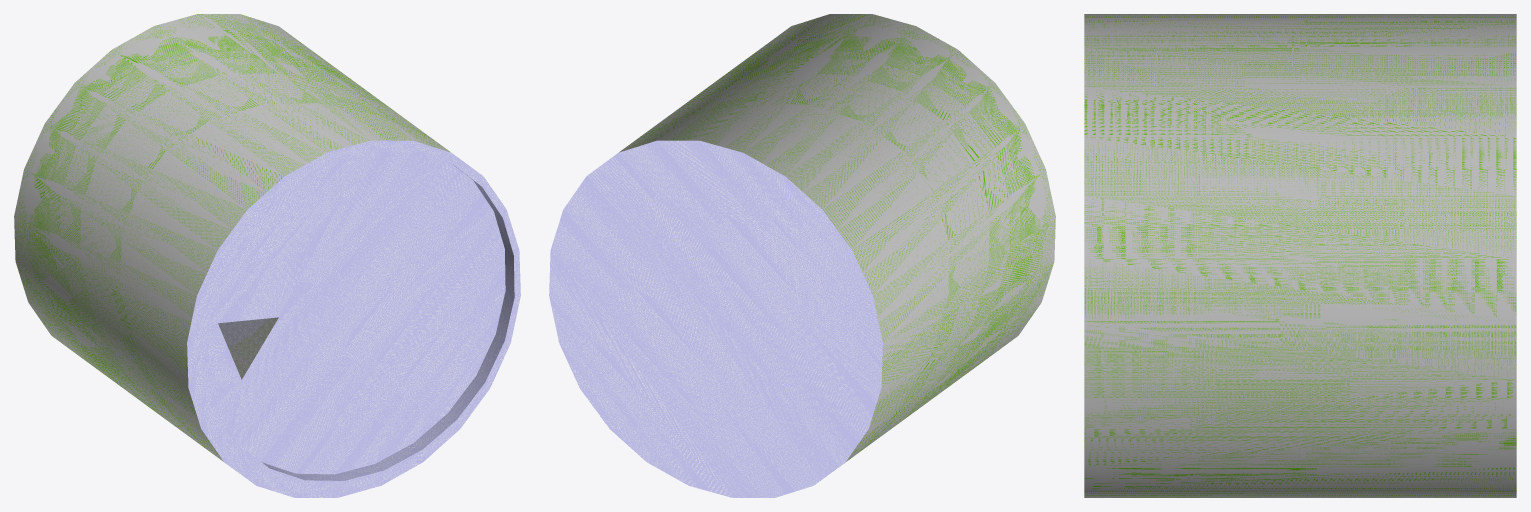
File: model_scale.obj
3 views of the same model, side by side, from view 1: azimuth 30°, elevation 25°; view 2: azimuth 150°, elevation 25°; view 3: azimuth 270°, elevation 25° (orthographic). The views are drawn at different scales.
Parts seen in each view (by area): view 1: mesh1_mesh1-geometry; view 2: mesh1_mesh1-geometry; view 3: mesh1_mesh1-geometry.
Part boxes in pixels (x1=…): mesh1_mesh1-geometry: x1=14, y1=14, x2=520, y2=497; mesh1_mesh1-geometry: x1=549, y1=14, x2=1055, y2=497; mesh1_mesh1-geometry: x1=1084, y1=14, x2=1516, y2=497.
Bounding box in the file's own units: 0.1113 × 0.1113 × 0.0999.
